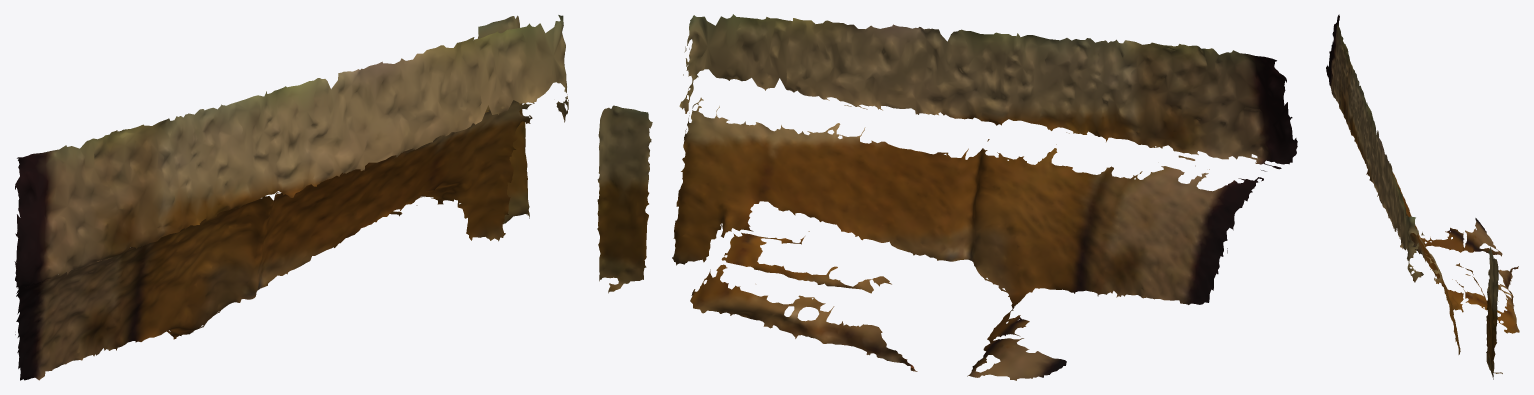
Rendered from color_model_f001_20260205_110844.obj.
The picture shows the model from 3 angles, left to right: view 1: azimuth 30°, elevation 25°; view 2: azimuth 150°, elevation 25°; view 3: azimuth 270°, elevation 25°; orthographic projection. The views are drawn at different scales.
Bounding box in the file's own units: 1.82 × 0.8421 × 0.7995.
